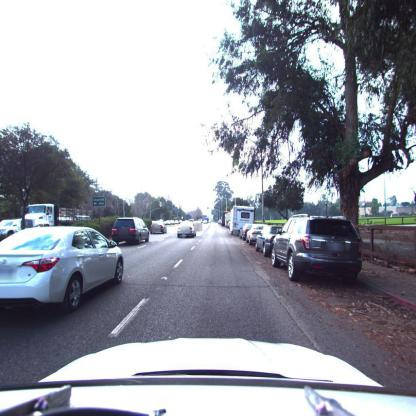car: (2, 225, 127, 312), (272, 217, 365, 282), (112, 217, 150, 246), (256, 224, 283, 254), (0, 218, 21, 240), (247, 226, 266, 246), (177, 223, 196, 239), (150, 223, 166, 234)
truck: (24, 204, 58, 230), (230, 206, 256, 236)
